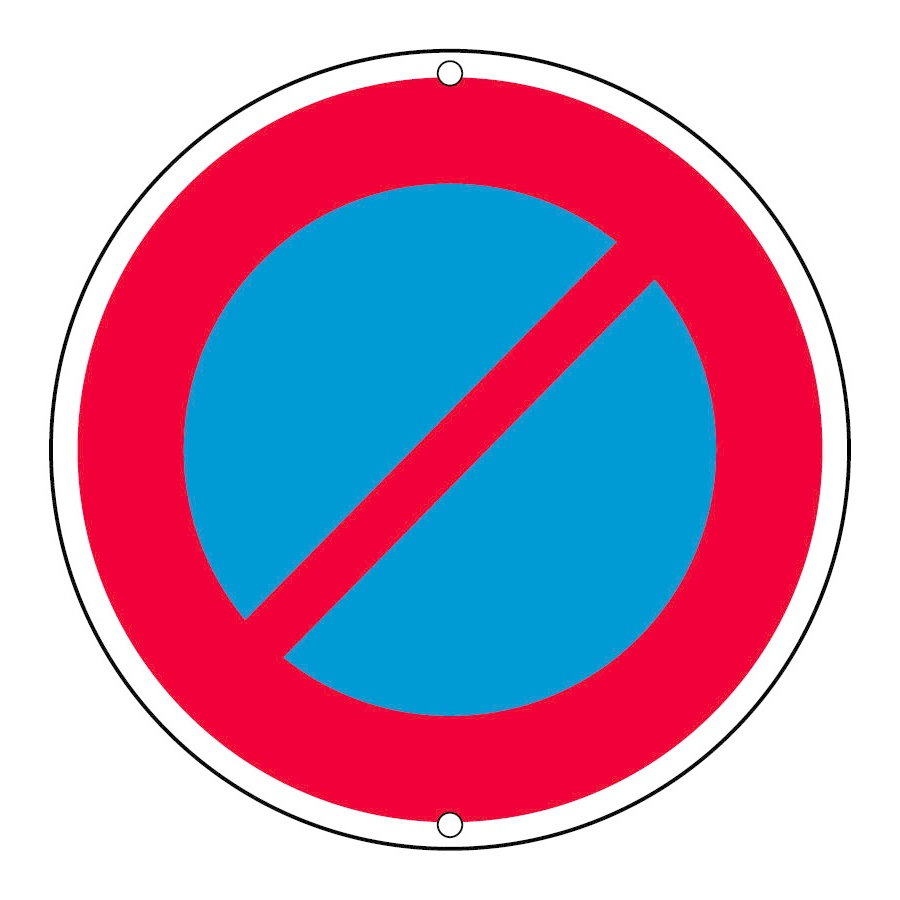Prohibition_sign: (11, 20, 877, 863)
